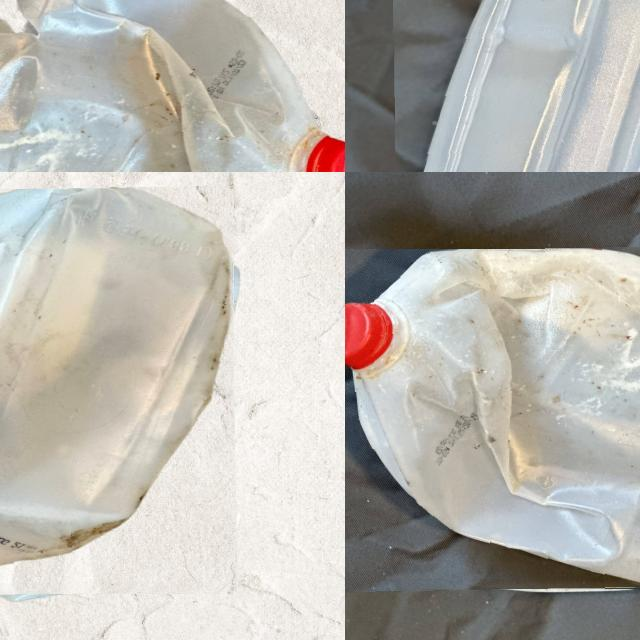milk-jug: (345, 247, 640, 592), (0, 187, 235, 596), (0, 0, 345, 172), (391, 0, 640, 172)
